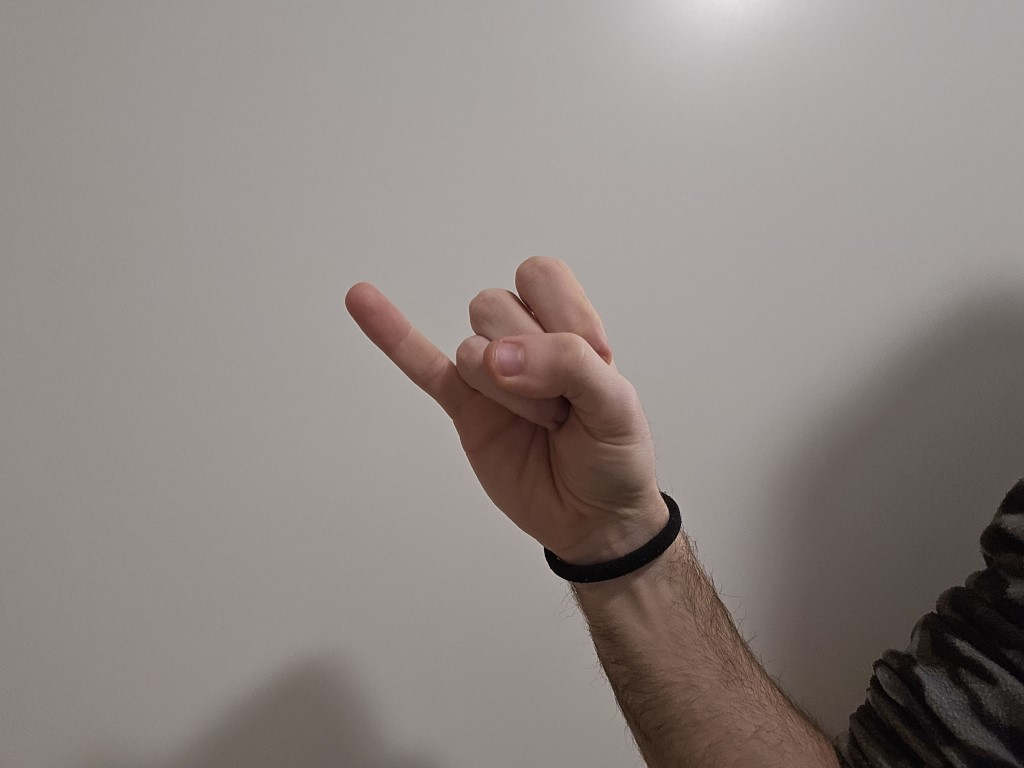j: (321, 248, 670, 536)
